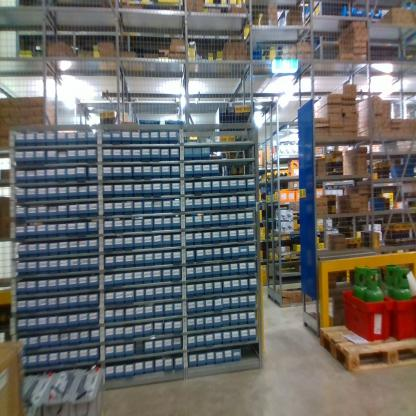pallet: (313, 313, 413, 372)
small_load_carrier: (341, 282, 390, 342), (387, 291, 414, 341)
